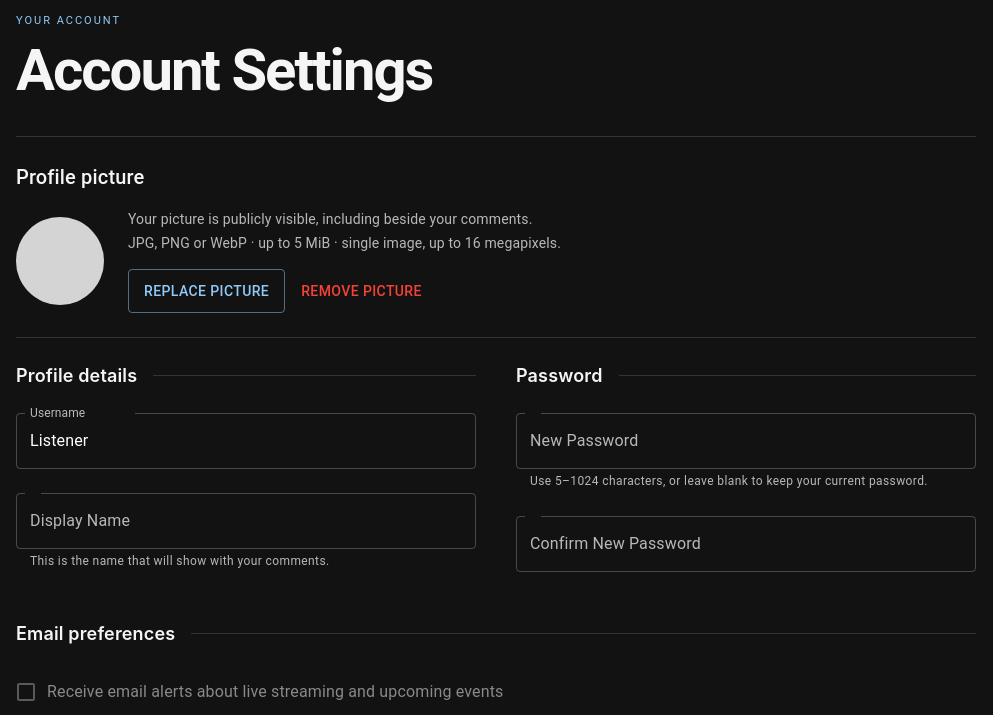
Test case: removes the saved picture and falls back to the username initial
This screenshot has width=993, height=715.
Click the button "Remove picture" at (362, 291), box 293,269 -> 430,313
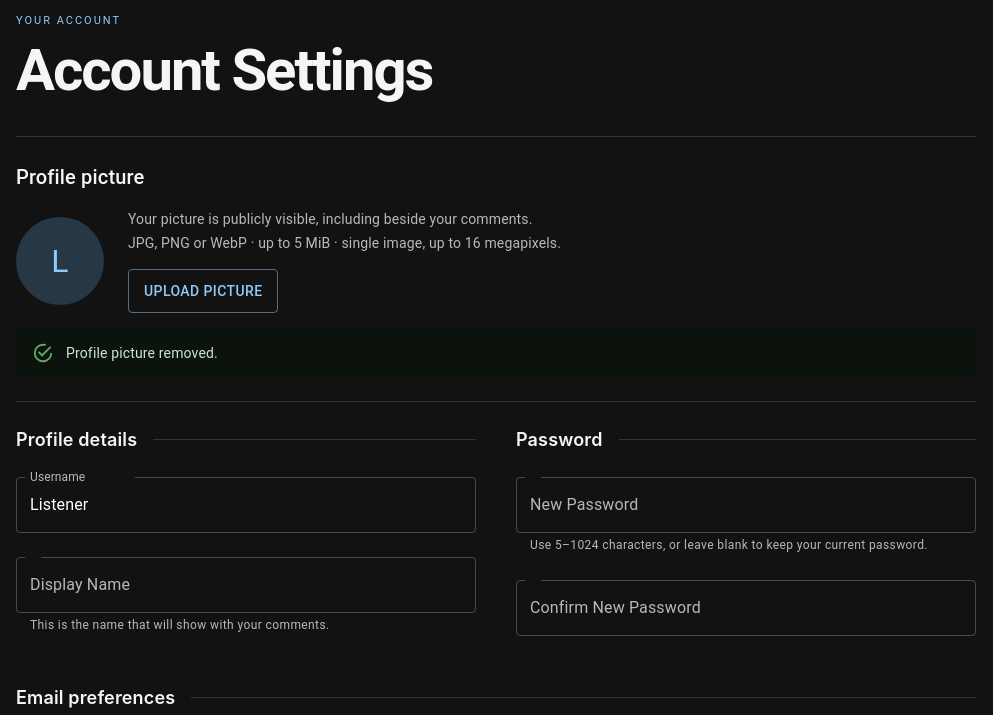
Check: the text "Profile picture removed." is shown, box 66,345 -> 218,361
Check: the button "Remove picture" is gone
